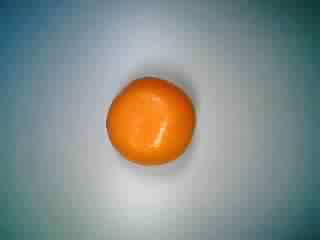orange: (102, 71, 203, 168)
